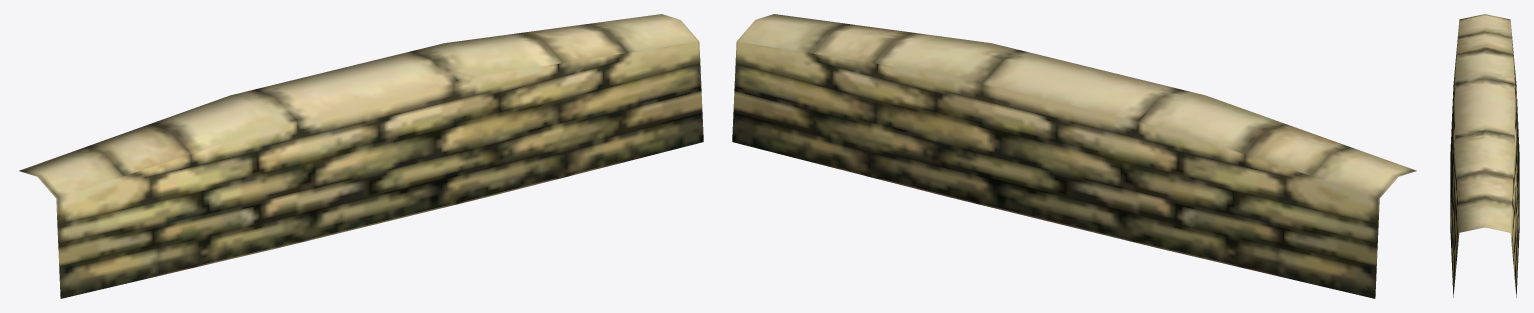
Rendered from Sandbags_LowPoly_Straight.glb.
3 renders of one model, left to right at view 1: azimuth 30°, elevation 25°; view 2: azimuth 150°, elevation 25°; view 3: azimuth 270°, elevation 25°, orthographic. The views are drawn at different scales.
Parts seen in each view (by area): view 1: SANDBAGS_LOWPOLY_STRAIGHT; view 2: SANDBAGS_LOWPOLY_STRAIGHT; view 3: SANDBAGS_LOWPOLY_STRAIGHT.
Boxes of the visible parts, x1=… form: SANDBAGS_LOWPOLY_STRAIGHT: x1=19, y1=14, x2=703, y2=298; SANDBAGS_LOWPOLY_STRAIGHT: x1=732, y1=14, x2=1416, y2=298; SANDBAGS_LOWPOLY_STRAIGHT: x1=1450, y1=14, x2=1519, y2=297.
Bounding box in the file's own units: 4 × 0.75 × 0.55.
1 material, 1 textured.
